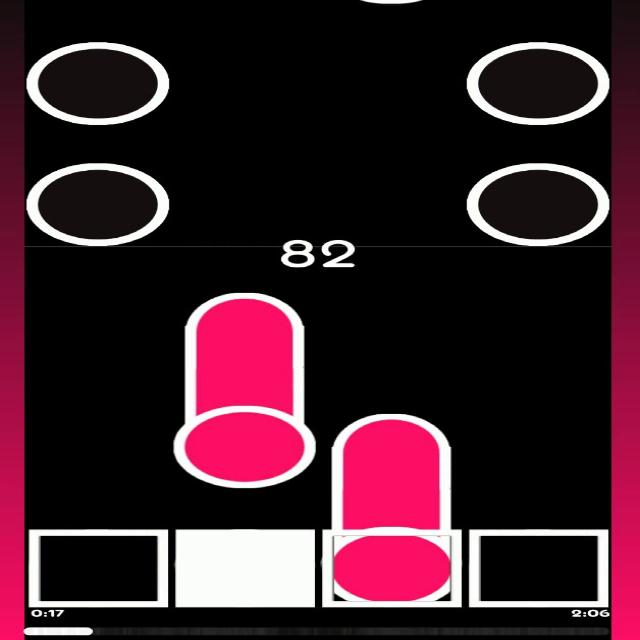end_hold: (328, 403, 454, 456), (181, 283, 306, 330)
note: (464, 157, 614, 247), (28, 158, 171, 250), (464, 40, 612, 127), (31, 35, 170, 126)
start_hold: (316, 500, 464, 608), (176, 392, 318, 494)
